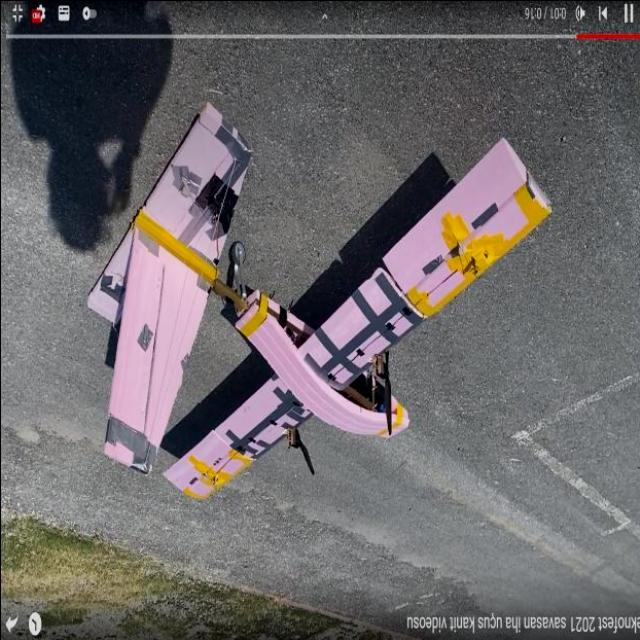plane: (81, 79, 554, 500)
